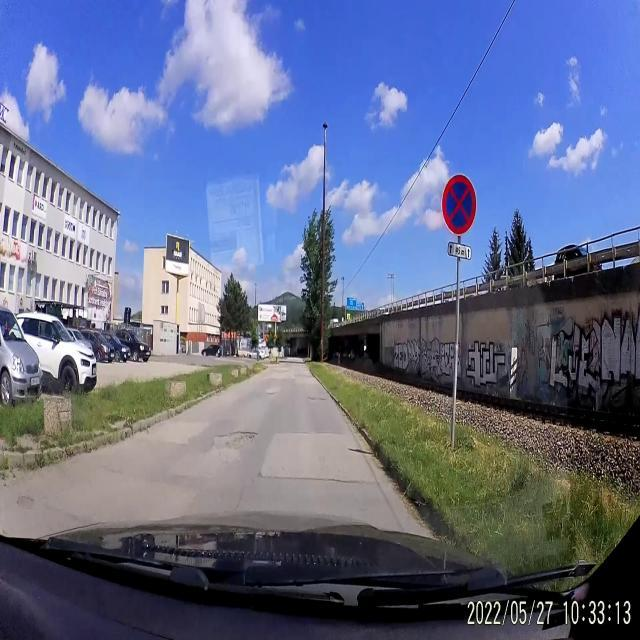Pothole: (208, 428, 258, 460), (14, 487, 36, 513), (307, 392, 325, 403), (265, 390, 280, 396)
